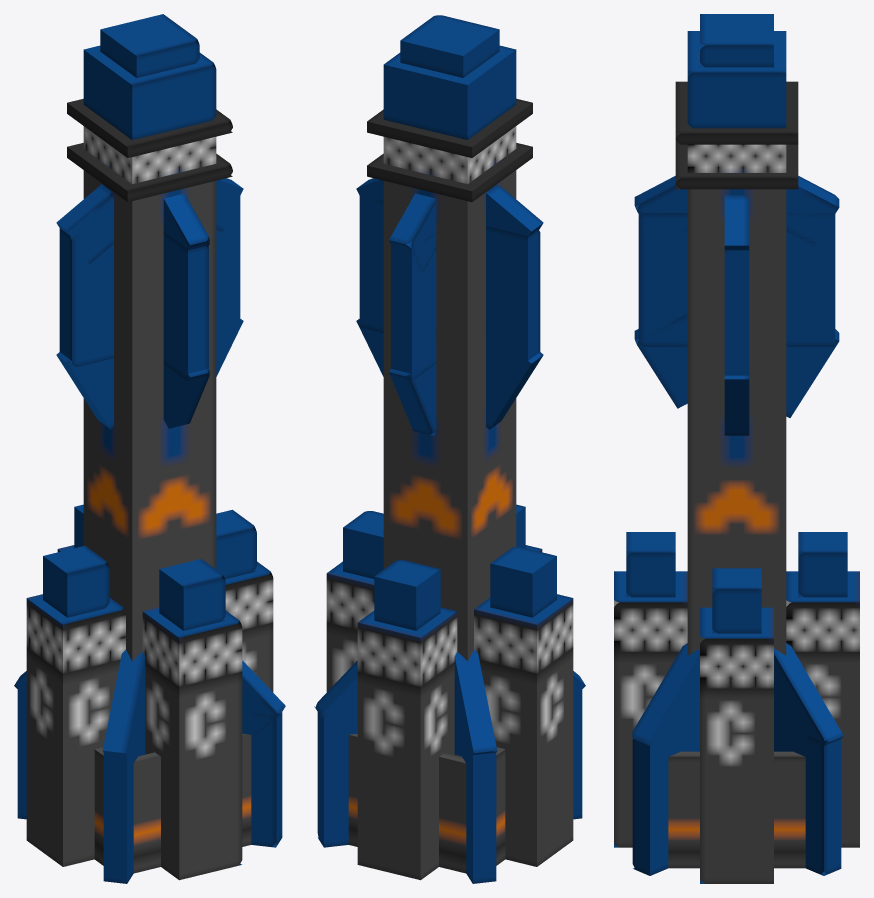
File: missile_cluster_nuclear.obj
3 views of the same model, side by side, from view 1: azimuth 30°, elevation 25°; view 2: azimuth 150°, elevation 25°; view 3: azimuth 270°, elevation 25° (orthographic).
Parts seen in each view (by area): view 1: Shape1, Shape7, Shape7g, Shape5, Shape8a, Shape5a, Shape3a, Shape8, Shape2, Shape7e, Shape7a, Shape7f (+13 smaller); view 2: Shape1, Shape7c, Shape7g, Shape5, Shape8a, Shape5a, Shape3, Shape8, Shape2a, Shape3a, Shape7e, Shape7b (+12 smaller); view 3: Shape1, Shape7e, Shape5a, Shape7, Shape7c, Shape2b, Shape8a, Shape3, Shape3a, Shape8, Shape3c, Shape3b (+12 smaller).
Part boxes in pixels (x1,y1,x2,y2): Shape1: (83, 126, 216, 661); Shape7: (142, 607, 242, 880); Shape7g: (26, 594, 125, 866); Shape5: (59, 196, 240, 367); Shape8a: (83, 45, 216, 139); Shape5a: (163, 232, 208, 381); Shape3a: (17, 686, 282, 847); Shape8: (100, 14, 199, 77); Shape2: (133, 733, 251, 873); Shape7e: (225, 561, 273, 692); Shape7a: (159, 559, 225, 630); Shape7f: (43, 546, 109, 617); Shape1: (383, 126, 516, 661); Shape7c: (357, 607, 457, 880); Shape7g: (474, 594, 573, 866); Shape5: (359, 195, 540, 360); Shape8a: (383, 45, 516, 139); Shape5a: (391, 233, 436, 381); Shape3: (317, 686, 582, 847); Shape8: (400, 15, 499, 77); Shape2a: (348, 733, 466, 873); Shape3a: (454, 723, 496, 883); Shape7e: (326, 561, 374, 692); Shape7b: (374, 560, 440, 630); Shape1: (687, 144, 786, 655); Shape7e: (700, 607, 773, 883); Shape5a: (638, 205, 835, 346); Shape7: (614, 571, 687, 847); Shape7c: (786, 571, 859, 847); Shape2b: (668, 751, 805, 868); Shape8a: (687, 31, 786, 128); Shape3: (774, 721, 841, 875); Shape3a: (632, 721, 699, 875); Shape8: (700, 14, 773, 67); Shape3c: (774, 643, 843, 746); Shape3b: (632, 643, 699, 745).
Bounding box in the file's own units: 1.25 × 4.5 × 1.25.
